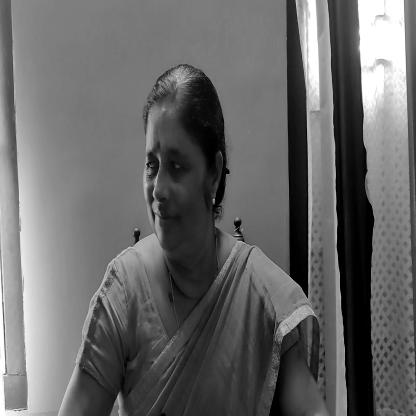Distracted: (138, 64, 232, 256)
